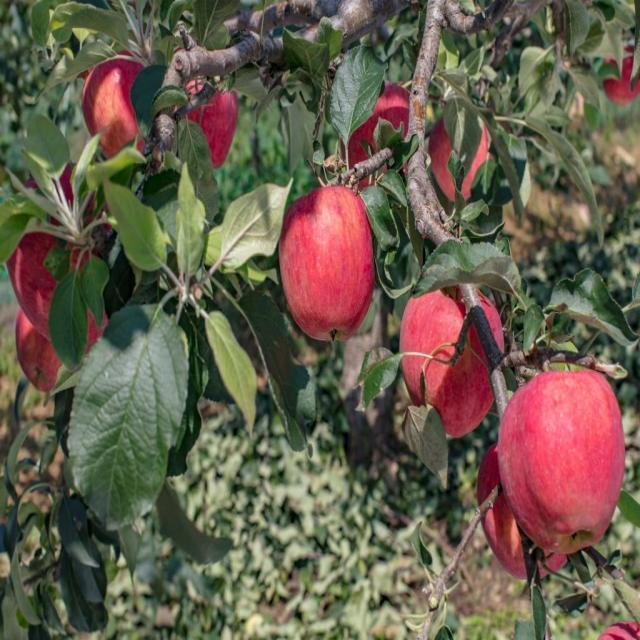Red Apple: (503, 375, 623, 545), (403, 285, 503, 415), (289, 187, 375, 334), (481, 441, 564, 574), (19, 175, 99, 307), (80, 58, 148, 140), (363, 80, 417, 183), (14, 303, 72, 389), (182, 77, 243, 156), (435, 120, 490, 198), (612, 52, 640, 100), (605, 612, 640, 640)
